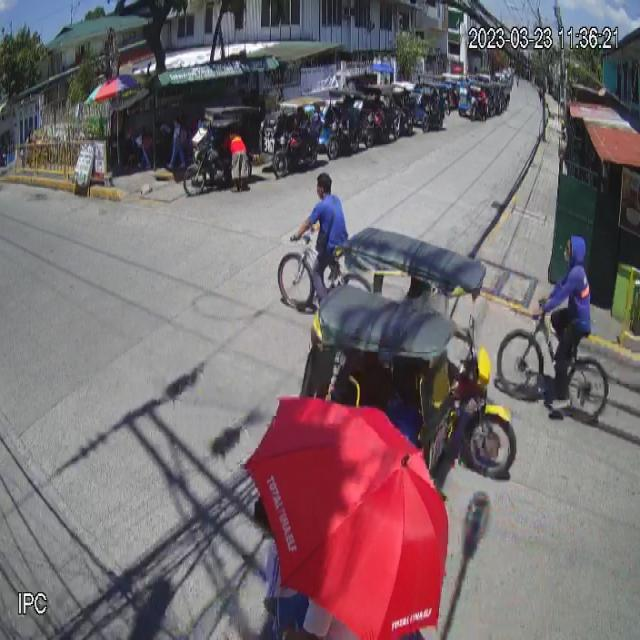Tricycle: (299, 225, 518, 510)
